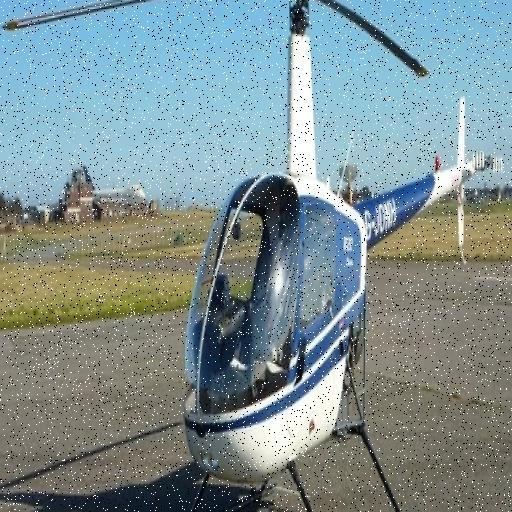helicopter: (1, 1, 503, 512)
